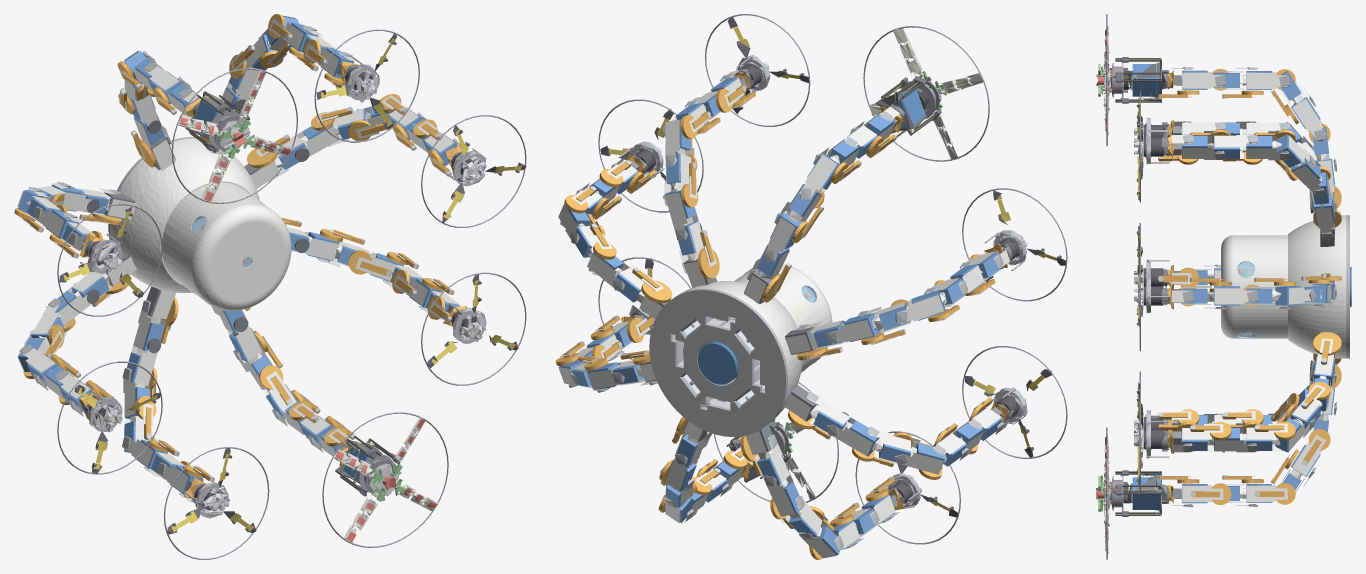
Rendered from cephalo2_mixed_flight.glb.
The picture shows the model from 3 angles, left to right: view 1: azimuth 30°, elevation 25°; view 2: azimuth 150°, elevation 25°; view 3: azimuth 270°, elevation 25°; orthographic projection. The views are drawn at different scales.
Visible parts, largest first — view 1: arms and hands|c0, turret shell|shell, arms and hands|c7, arms and hands|c3, arms and hands|c14, arms and hands|c4, arms and hands|c6, arms and hands|c27, arms and hands|c11, arms and hands|c13, arms and hands|c12, arms and hands|c2 (+11 smaller); view 2: arms and hands|c0, arms and hands|c7, body|plate, arms and hands|c3, arms and hands|c6, arms and hands|c4, turret shell|shell, arms and hands|c14, arms and hands|c2, arms and hands|c27, arms and hands|c12, belly rotor|motor (+7 smaller); view 3: arms and hands|c0, turret shell|shell, arms and hands|c7, arms and hands|c3, arms and hands|c4, arms and hands|c6, arms and hands|c10, arms and hands|c18, arms and hands|c17, arms and hands|c14, arms and hands|c16, bayonet connectors|hand bases (+10 smaller).
Part boxes in pixels (left/top/right/bottom): arms and hands|c0: left=17, top=15, right=461, bottom=502; turret shell|shell: left=110, top=138, right=291, bottom=310; arms and hands|c7: left=18, top=16, right=460, bottom=494; arms and hands|c3: left=14, top=14, right=444, bottom=477; arms and hands|c14: left=57, top=29, right=526, bottom=559; arms and hands|c4: left=22, top=22, right=454, bottom=482; arms and hands|c6: left=19, top=25, right=486, bottom=518; arms and hands|c27: left=177, top=70, right=438, bottom=543; arms and hands|c11: left=96, top=71, right=486, bottom=517; arms and hands|c13: left=63, top=38, right=521, bottom=531; arms and hands|c12: left=59, top=33, right=526, bottom=534; arms and hands|c2: left=21, top=19, right=444, bottom=477; arms and hands|c0: left=558, top=70, right=1009, bottom=558; arms and hands|c7: left=559, top=77, right=1002, bottom=554; body|plate: left=649, top=288, right=787, bottom=436; arms and hands|c3: left=555, top=88, right=986, bottom=559; arms and hands|c6: left=560, top=54, right=1027, bottom=550; arms and hands|c4: left=563, top=85, right=995, bottom=531; turret shell|shell: left=673, top=264, right=832, bottom=422; arms and hands|c14: left=598, top=14, right=1067, bottom=544; arms and hands|c2: left=557, top=90, right=984, bottom=556; arms and hands|c27: left=786, top=28, right=984, bottom=499; arms and hands|c12: left=600, top=17, right=1065, bottom=517; belly rotor|motor: left=697, top=341, right=738, bottom=384; arms and hands|c0: left=1171, top=68, right=1335, bottom=505; turret shell|shell: left=1221, top=215, right=1346, bottom=358; arms and hands|c7: left=1182, top=70, right=1334, bottom=503; arms and hands|c3: left=1177, top=69, right=1341, bottom=504; arms and hands|c4: left=1159, top=91, right=1330, bottom=497; arms and hands|c6: left=1145, top=67, right=1337, bottom=507; arms and hands|c10: left=1143, top=124, right=1163, bottom=449; arms and hands|c18: left=1109, top=57, right=1161, bottom=516; arms and hands|c17: left=1132, top=64, right=1160, bottom=509; arms and hands|c14: left=1106, top=14, right=1140, bottom=559; arms and hands|c16: left=1115, top=58, right=1161, bottom=515; bayonet connectors|hand bases: left=1162, top=70, right=1170, bottom=503.
Size of the model in its own units: 0.8581 by 0.8962 by 0.4441.
